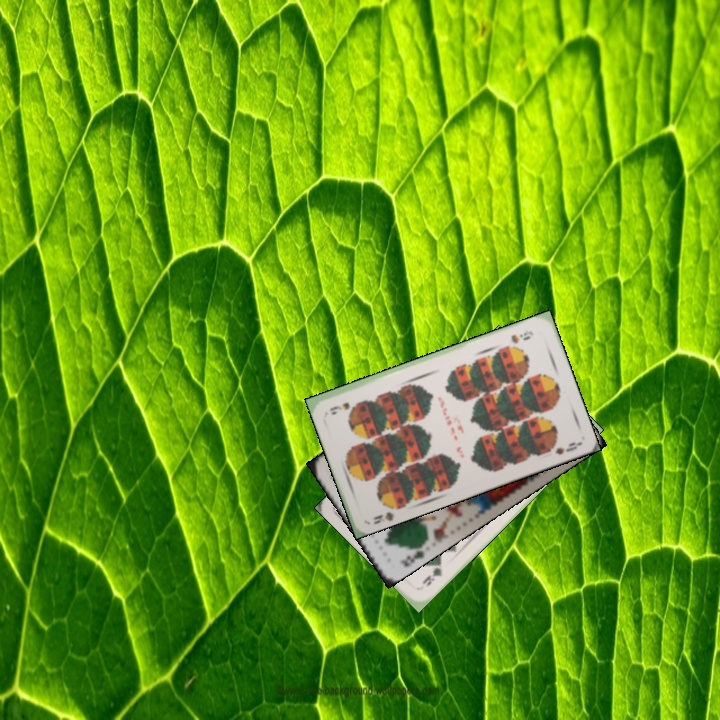G9: (418, 558, 444, 589)
GK: (396, 540, 427, 570)
S9: (368, 498, 404, 527), (507, 326, 536, 346)
